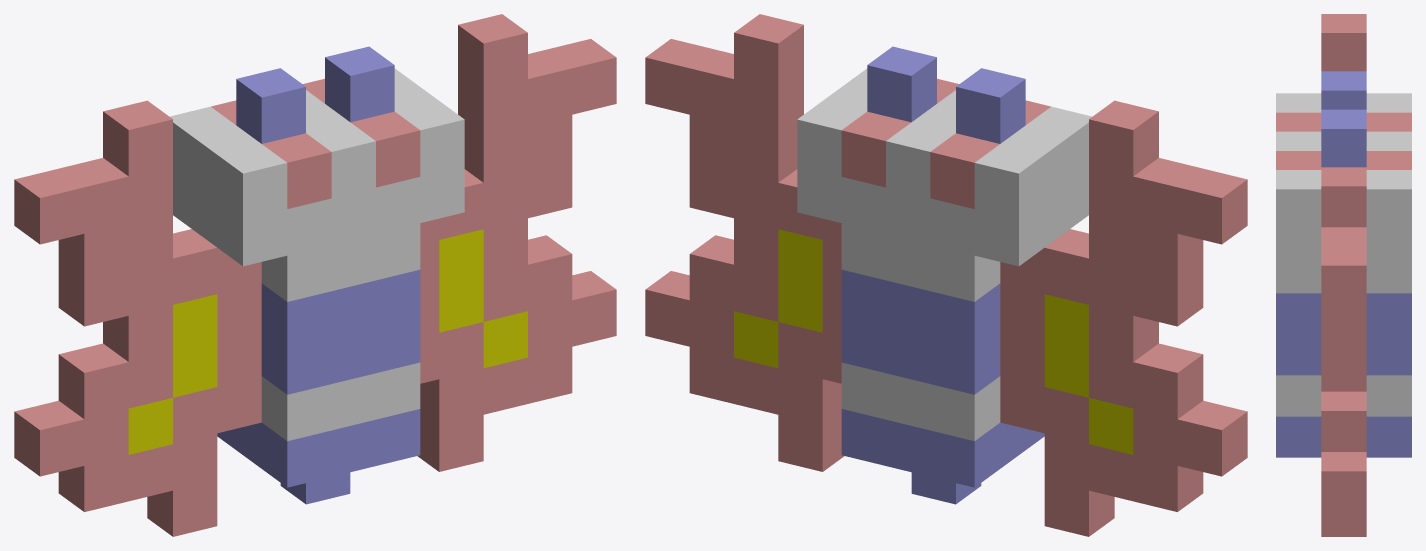
File: invader2.gltf
3 renders of one model, left to right at view 1: azimuth 30°, elevation 25°; view 2: azimuth 150°, elevation 25°; view 3: azimuth 270°, elevation 25°, orthographic. The views are drawn at different scales.
Bounding box in the file's own units: 13 × 9 × 3.
